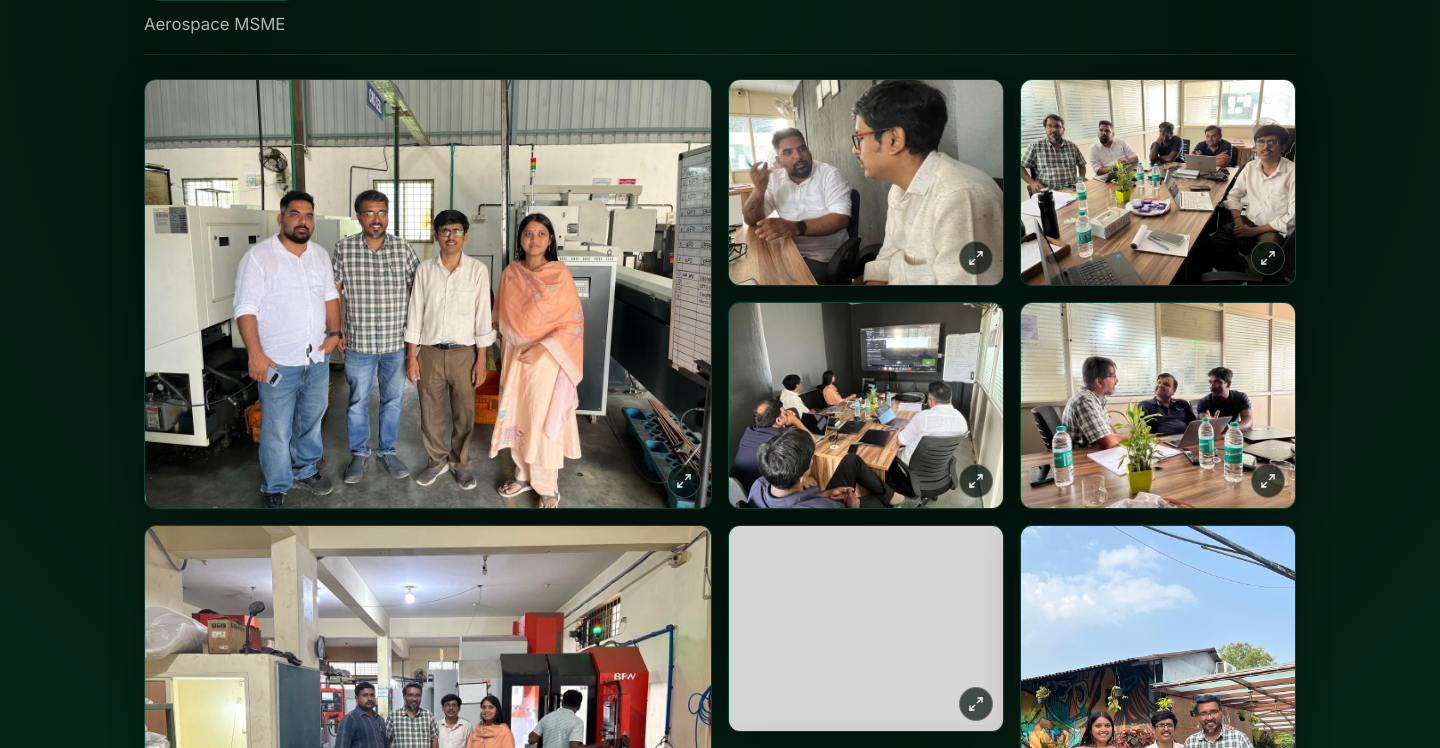
Scenario: /workshop-gallery — Factory Visit & Customer Interaction › steps with the arrow keys
This screenshot has width=1440, height=748.
(page scrolled)
Step 1. Click the button named "Factory Visit & Customer Interaction — Aerospace MSME — 07 October 2026 — Photo 4" → {"x": 866, "y": 405}, box left=728, top=302, right=1004, bottom=509
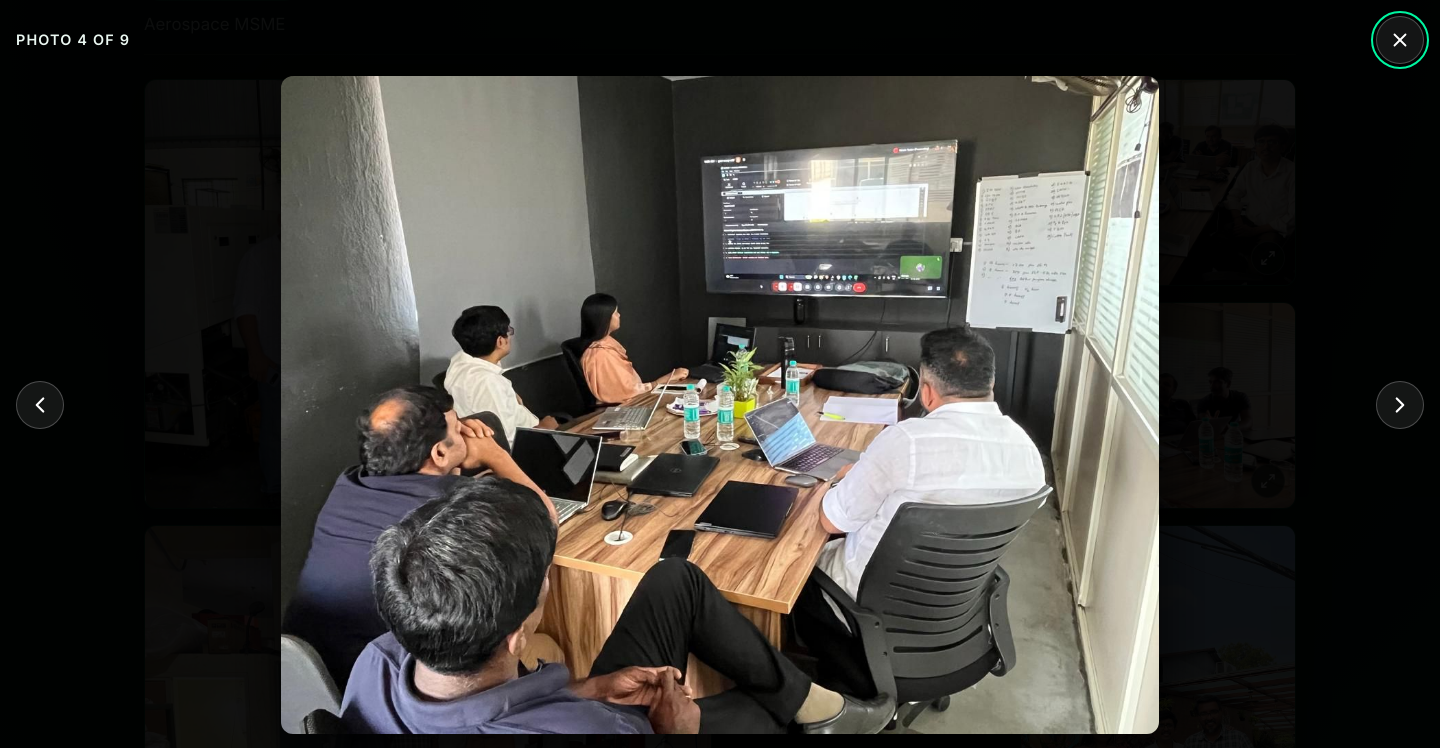
Step 2. Press Arrowright Arrowright
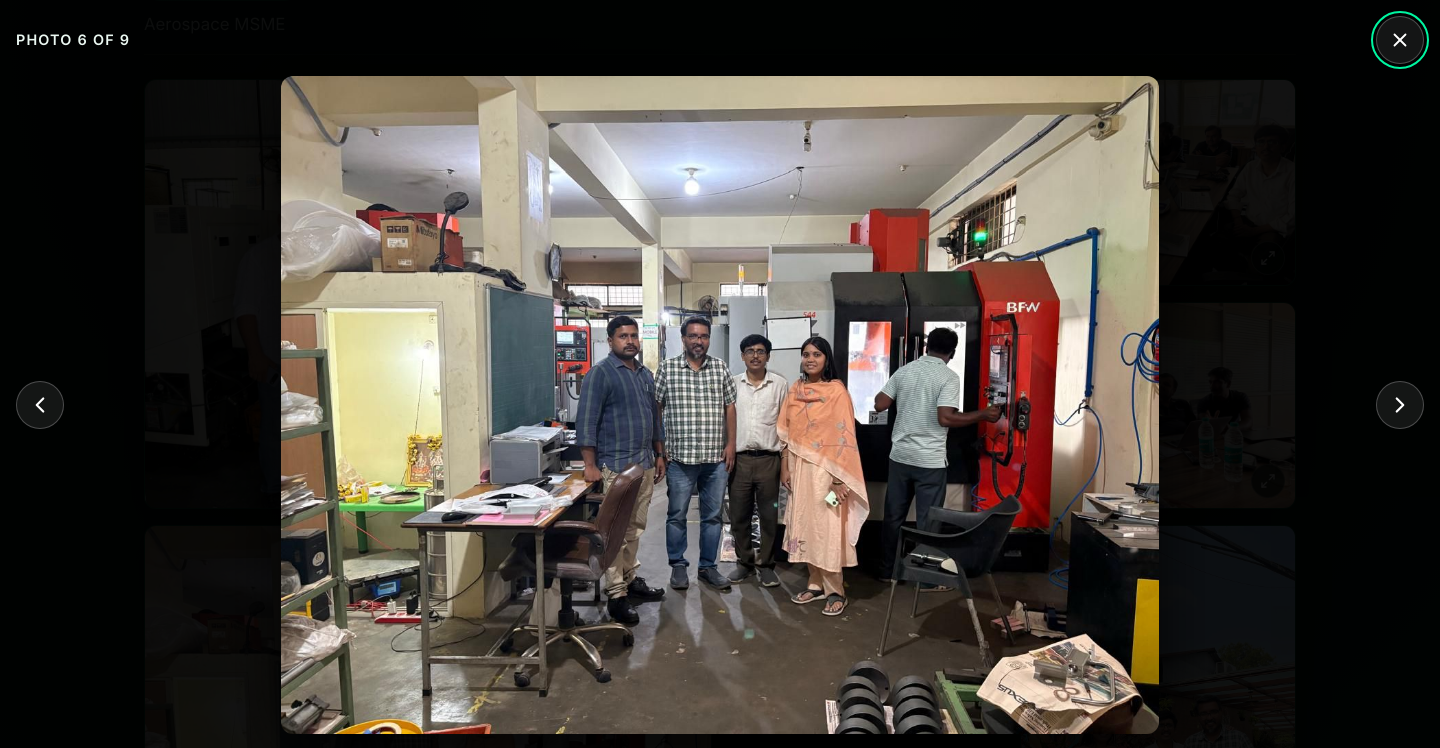
Expected: the text "Photo 6 of 9" is shown, left=16, top=28, right=130, bottom=52
Step 3. Press Arrowleft
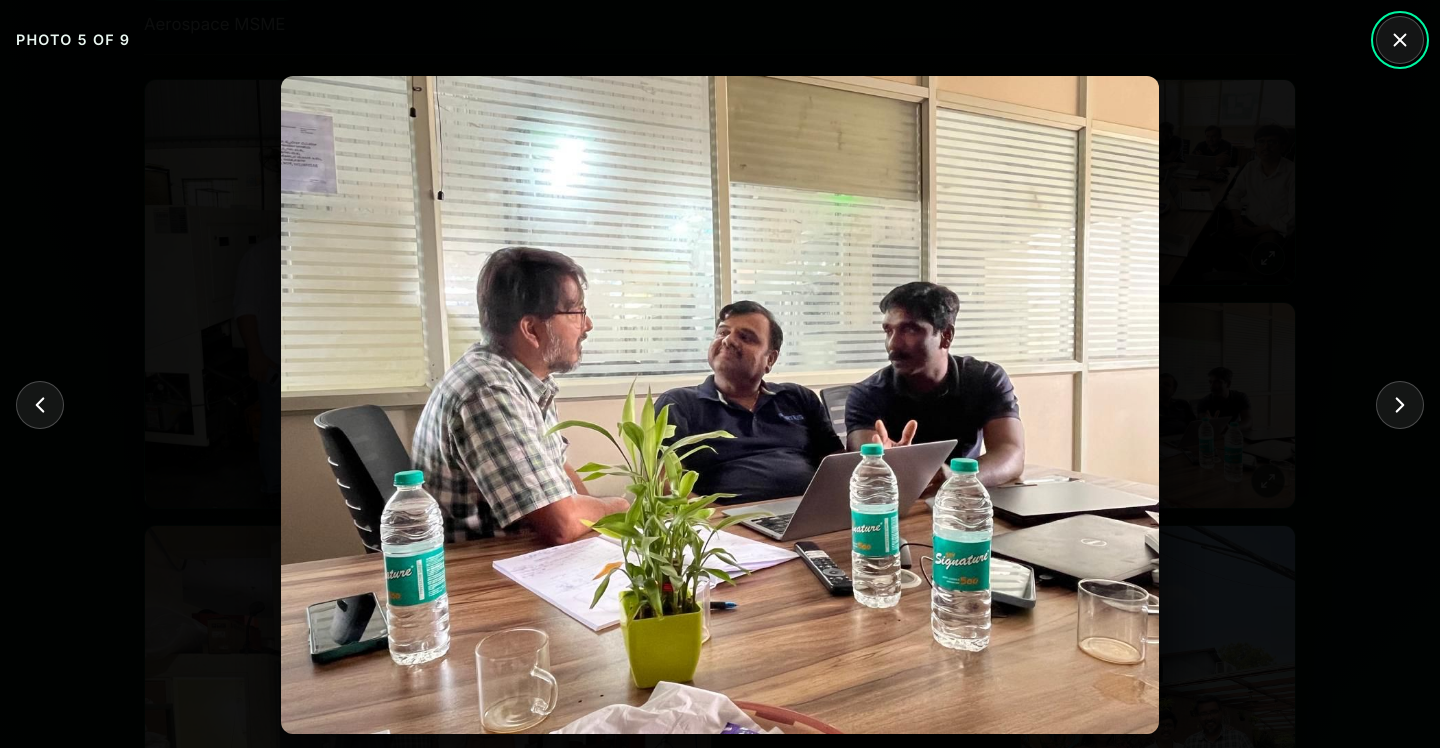
Expected: the text "Photo 5 of 9" is shown, left=16, top=28, right=130, bottom=52
